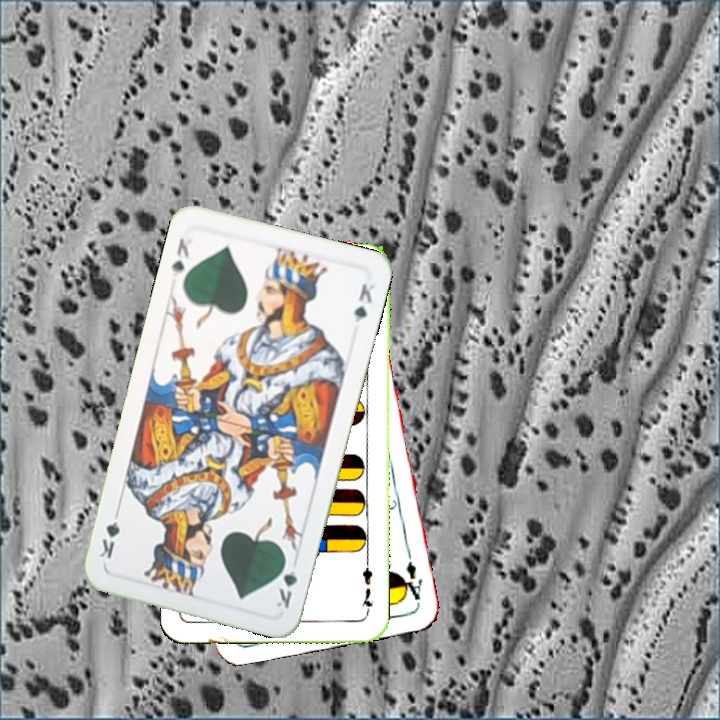E7: (357, 558, 375, 617)
EA: (397, 557, 425, 606)
GK: (271, 553, 300, 613), (167, 228, 196, 280)
